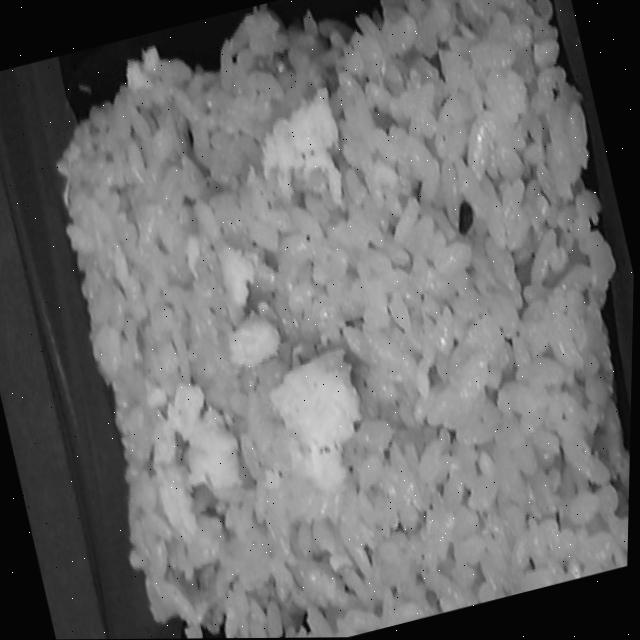米饭主食: (0, 1, 395, 601)
